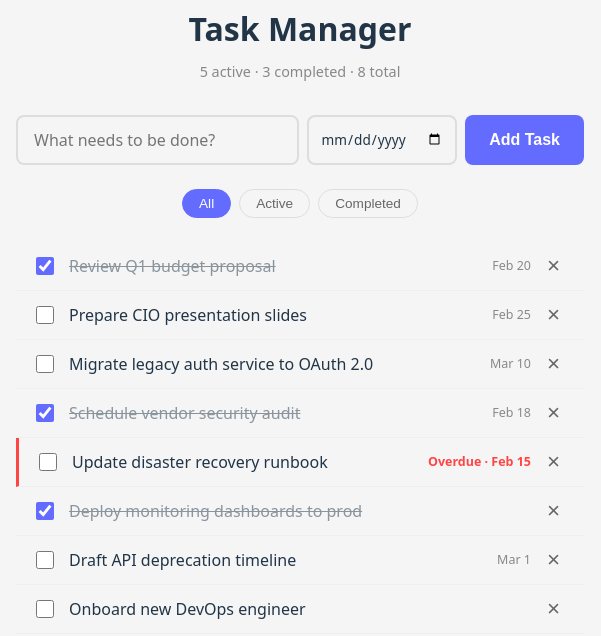
Test case: Task Manager — End to End › completes a task by clicking its checkbox
What coordinates should you click on to do the following:
click the checkbox labelled "Prepare CIO presentation slides"
I would click on:
 (45, 315)
Its box is 36,306 -> 54,324.
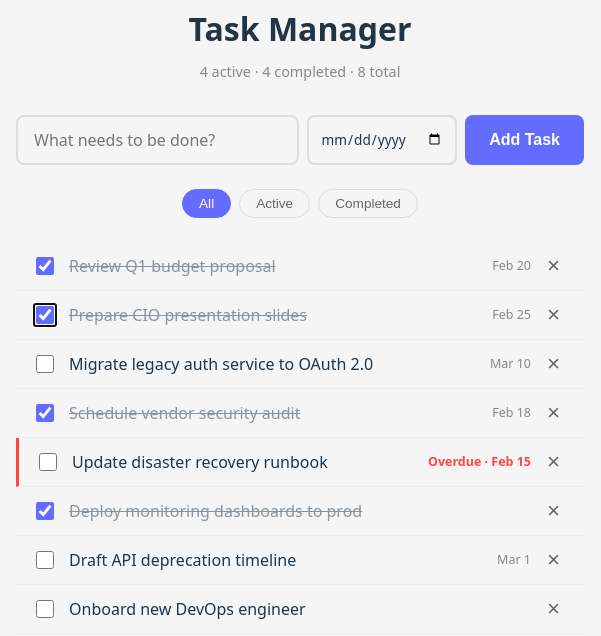
Expected: the checkbox labelled "Prepare CIO presentation slides" is checked, 36,306 -> 54,324
Expected: the text "4 active · 4 completed · 8 total" is shown, 200,62 -> 400,81
